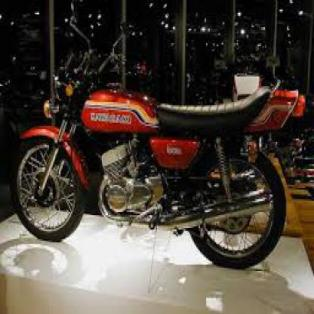Motocicleta: (8, 13, 310, 273)
